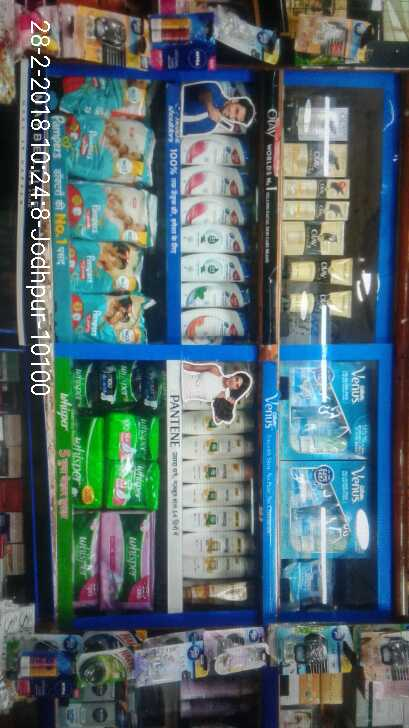ambipureVesus: (78, 4, 149, 71), (293, 13, 376, 62), (216, 4, 280, 67), (278, 626, 356, 675), (136, 642, 209, 683), (212, 630, 270, 654), (26, 637, 82, 652)
venus: (280, 363, 374, 461), (281, 461, 374, 556), (280, 560, 339, 608)
